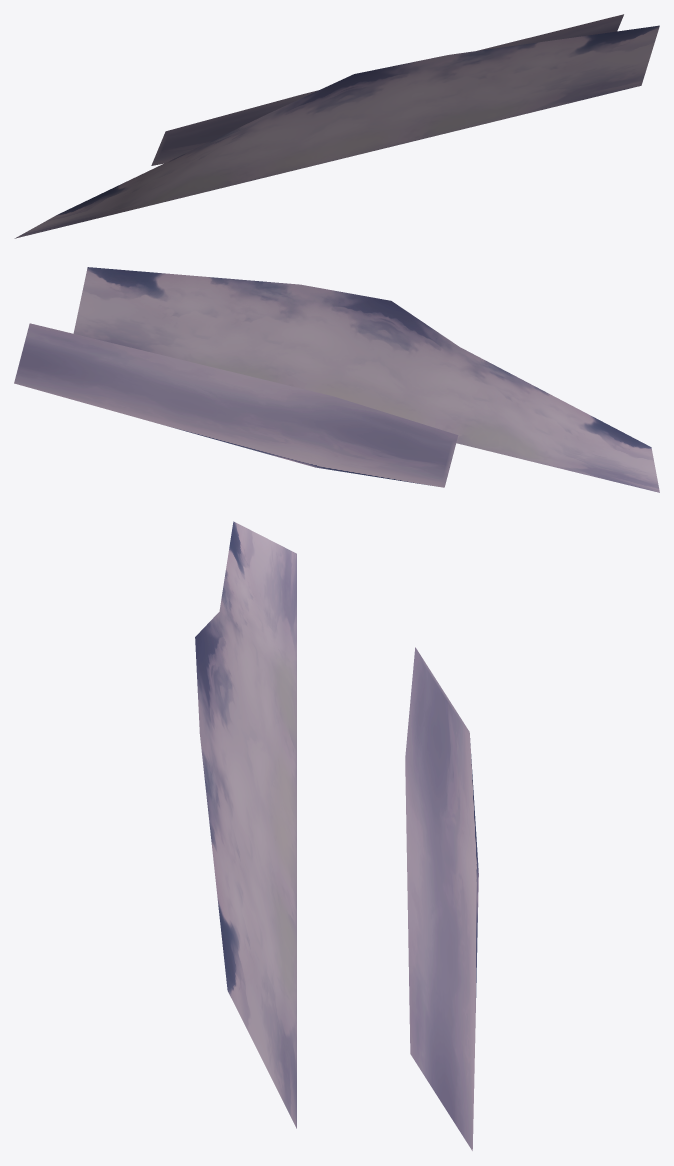
The model's file is 2_Loading_Wu_01.FBX.
3 renders of one model, top to bottom at view 1: azimuth 30°, elevation 25°; view 2: azimuth 150°, elevation 25°; view 3: azimuth 270°, elevation 25°, orthographic. The views are drawn at different scales.
Visible parts, largest first — view 1: 2_Loading_Wu_01, 2_Loading_Wu_02; view 2: 2_Loading_Wu_01, 2_Loading_Wu_02; view 3: 2_Loading_Wu_01, 2_Loading_Wu_02.
Boxes of the visible parts, box(x1,y1,x2,y2) form: 2_Loading_Wu_01: box(14, 25, 659, 238); 2_Loading_Wu_02: box(151, 14, 623, 165); 2_Loading_Wu_01: box(73, 267, 659, 492); 2_Loading_Wu_02: box(14, 323, 458, 487); 2_Loading_Wu_01: box(195, 521, 296, 1128); 2_Loading_Wu_02: box(405, 647, 478, 1150).
Bounding box in the file's own units: 3084 × 568 × 630.
1 material, 1 textured.
